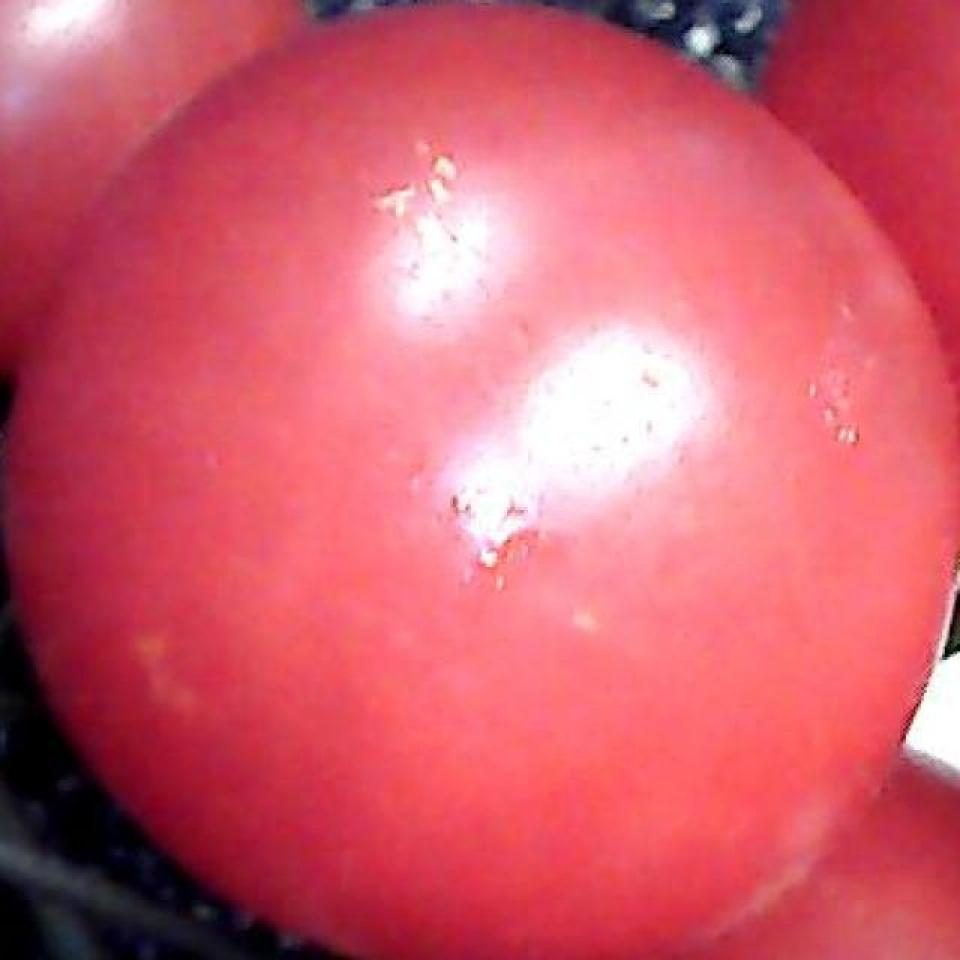Healthy: (47, 13, 960, 960)
